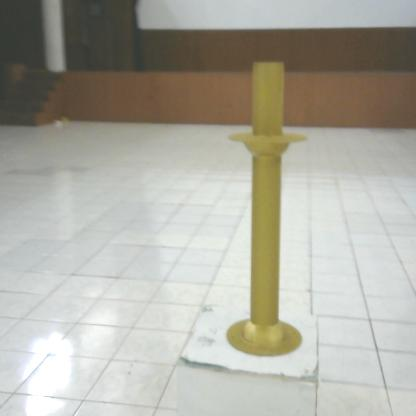pole: (220, 52, 313, 358)
